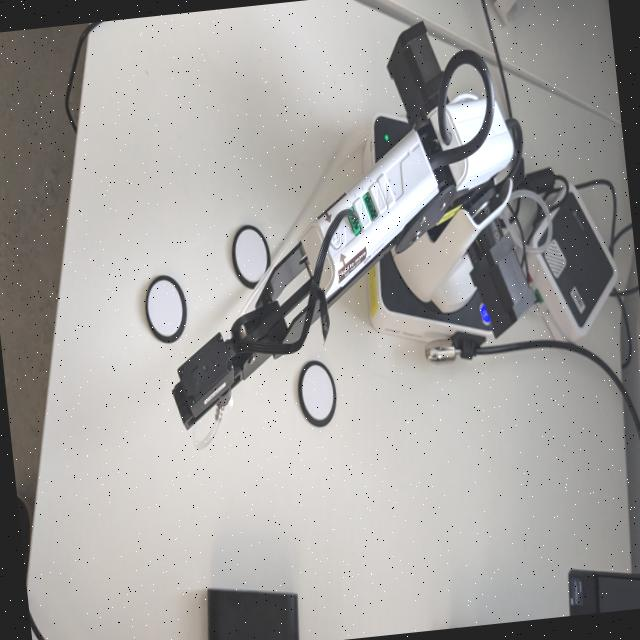Robot-end-effector-HF8z: (165, 327, 243, 442)
